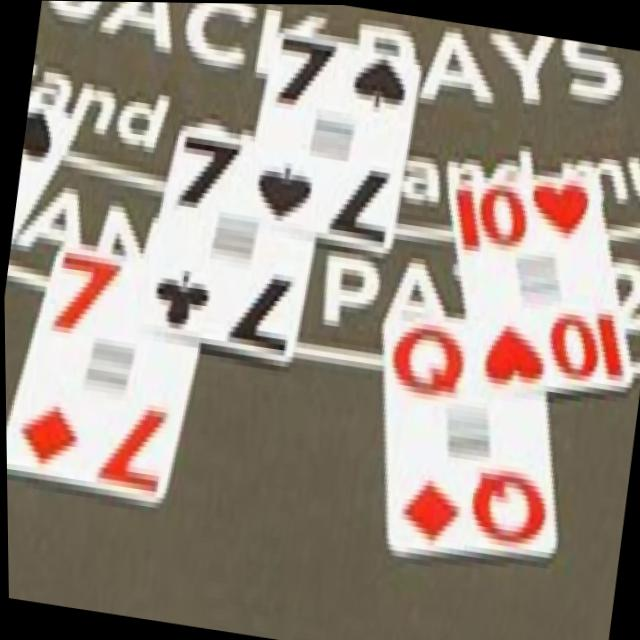Card-10: (449, 170, 630, 392)
Card-7: (5, 243, 197, 498), (134, 123, 315, 368), (245, 23, 423, 249)
Card-Q: (385, 314, 556, 549)
